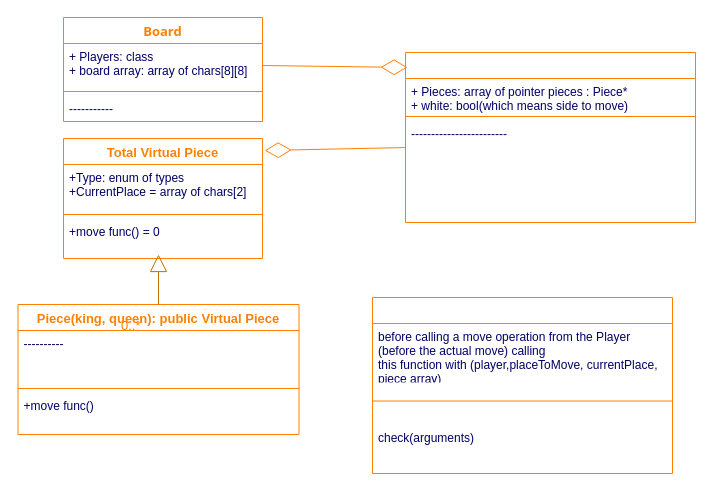
Some shapes in this 713 by 494 pixel diagram are drawn without their labels. Here are the shapes that lost their labels. From the top down, the box of each, then its label:
(404, 52, 696, 222): Player
(372, 296, 672, 474): ExceptionCheck
